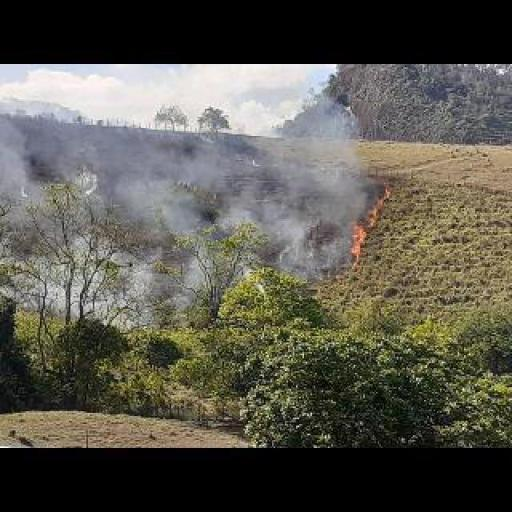smoke: (2, 104, 359, 298), (368, 190, 392, 224), (349, 227, 365, 267)
